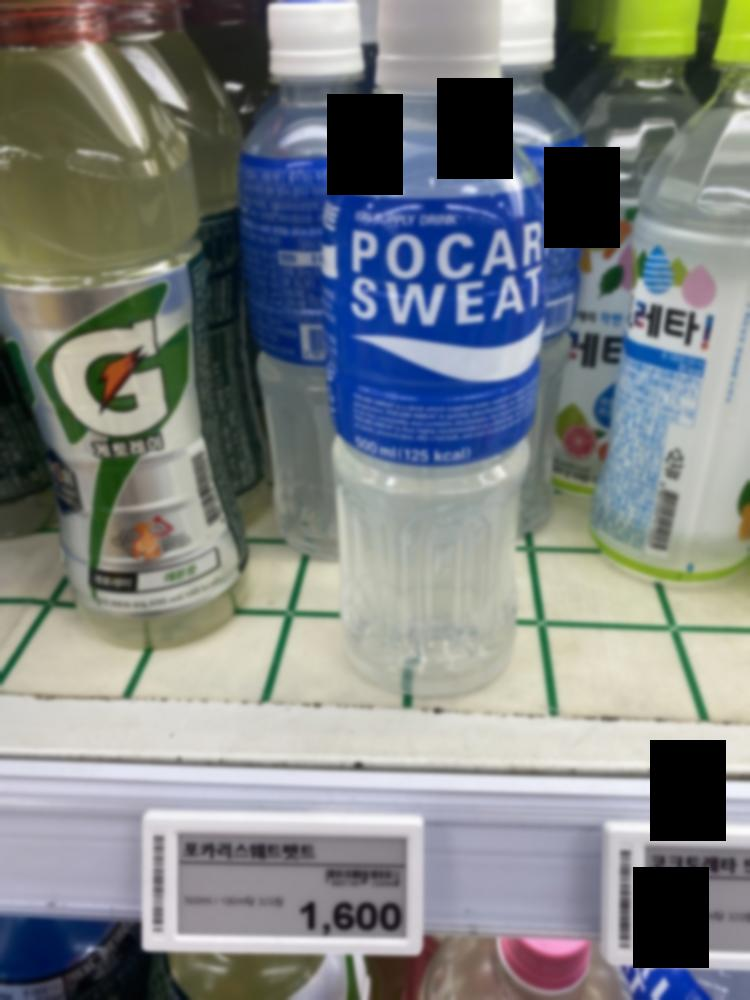gatorade_lemon: (0, 0, 246, 655)
pocarisweat: (321, 3, 534, 722)
